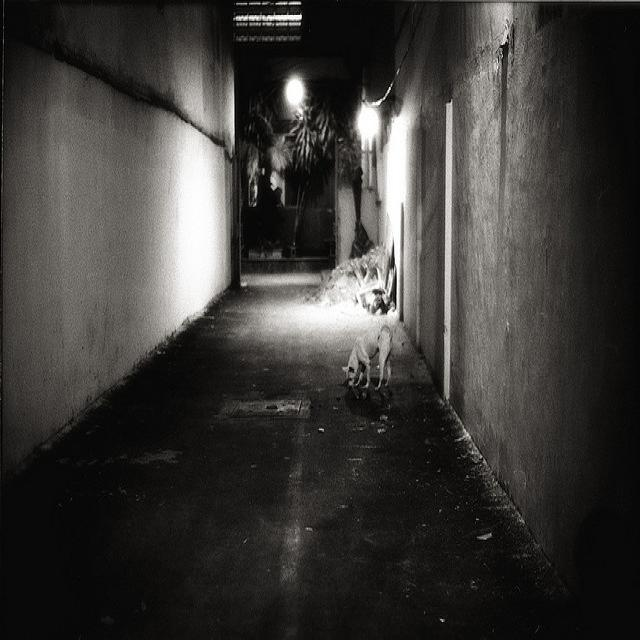dog: (347, 292, 408, 407)
